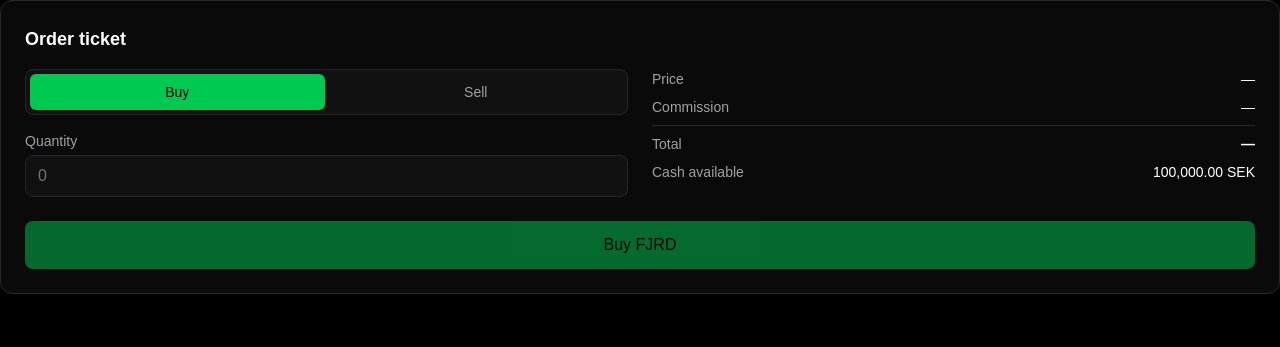
Test case: OrderTicket › shows 400 VALIDATION_ERROR as "Enter a whole number of shares greater than 0." inline and as an error toast
This screenshot has width=1280, height=347.
Expected: the button "Buy FJRD" is shown, [25,221,1255,269]
Type "10" into the number field labelled "Quantity". click: {"x": 326, "y": 176}
box: [25,155,628,197]
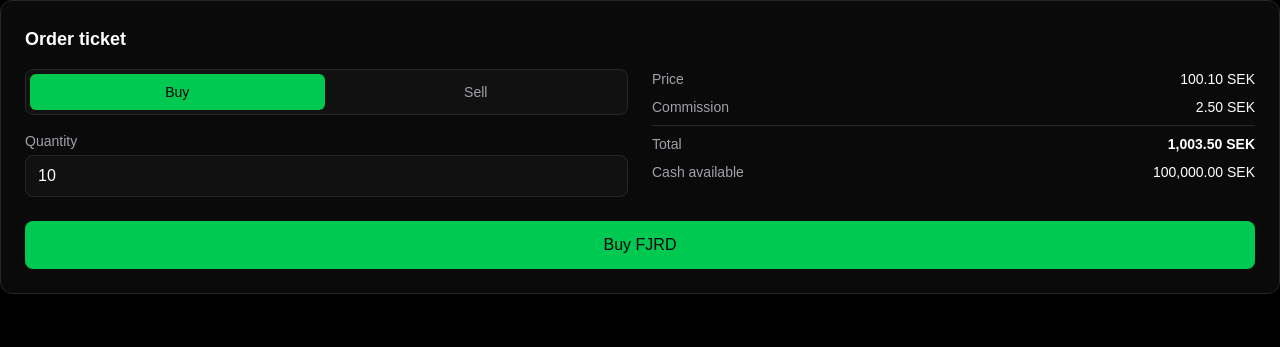
Click the button "Buy FJRD". click: {"x": 640, "y": 245}
box: [25,221,1255,269]
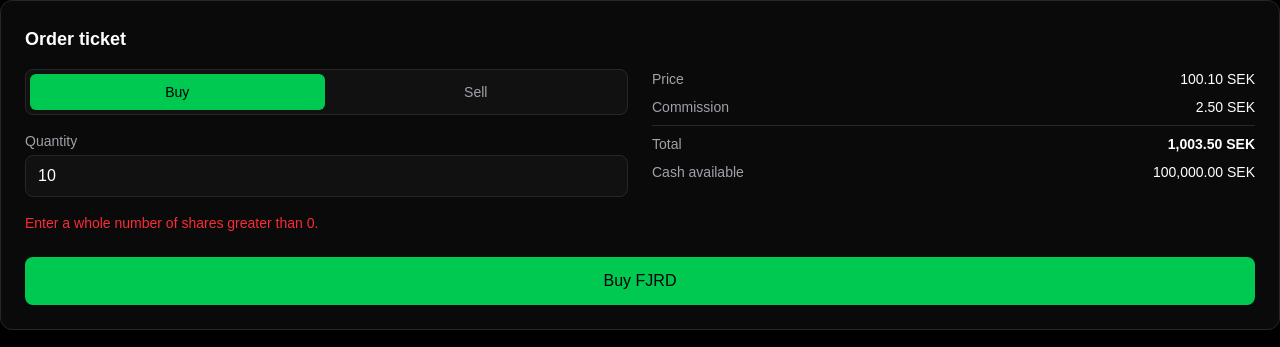
Now the button "Buy FJRD" is enabled, box [25,257,1255,305]
Now the message reads "Enter a whole number of shares greater than 0.", box [25,215,318,231]
